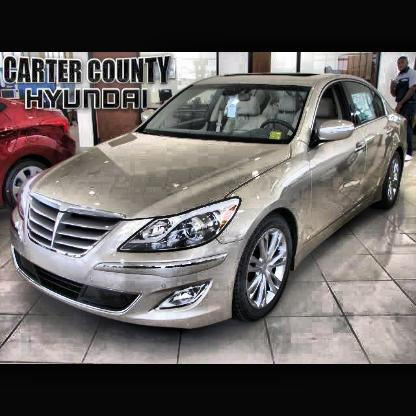Hyundai Genesis Sedan 2012: (8, 72, 411, 335)
